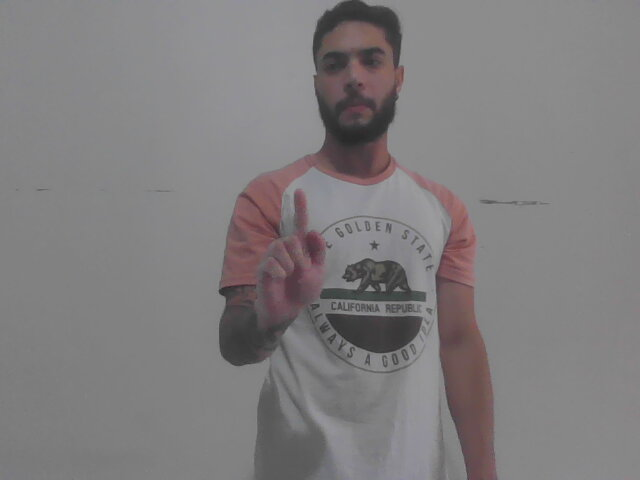z: (255, 184, 332, 332)
